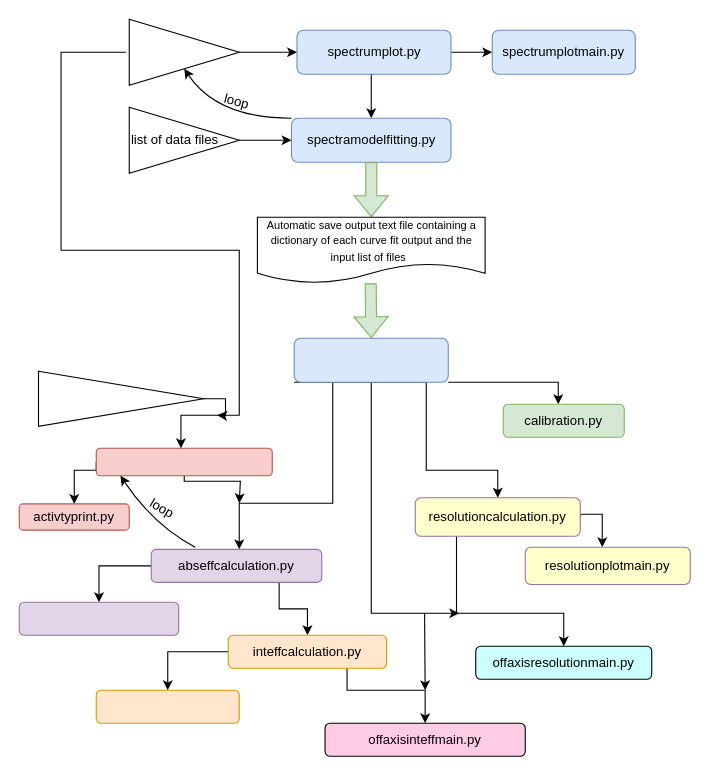
This 710x776 diagram has some shape labels left out. Each missing label, with the box of its shape:
abseffplotmain.py: (18, 601, 179, 635)
activitycalculation.py: (95, 447, 272, 476)
inteffplotmain.py: (95, 689, 239, 723)
peakmatching.py: (293, 337, 448, 382)
single data file: (128, 18, 239, 85)
source calibration data file: (37, 370, 204, 426)
